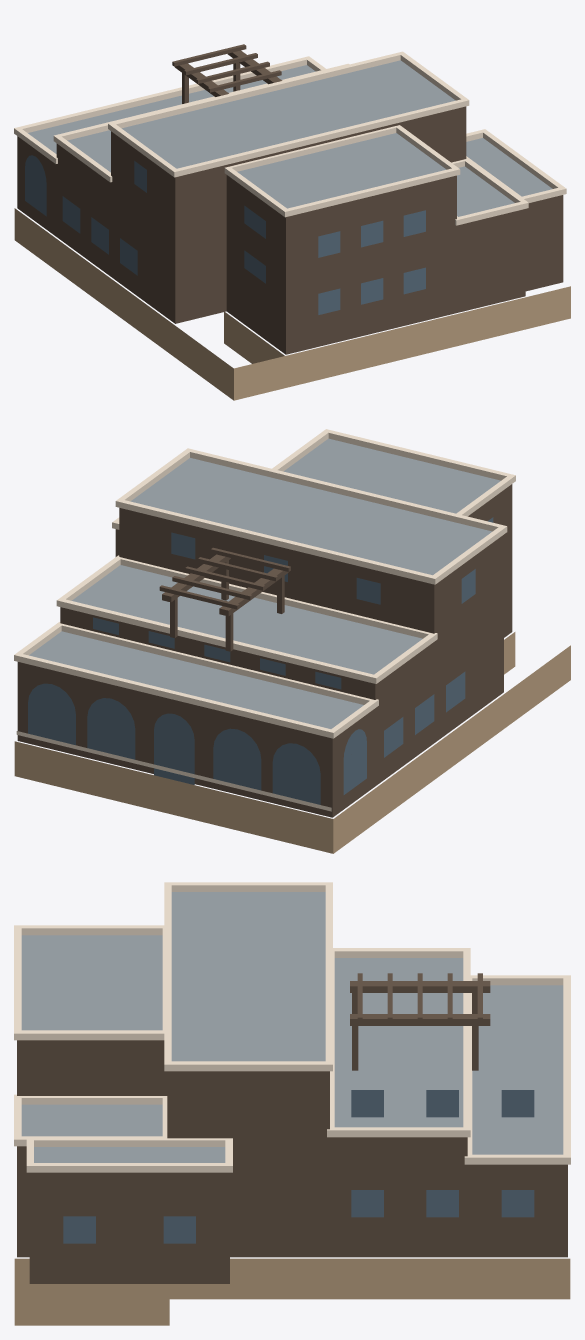
The model's file is grand-canyon-verkamps.glb.
3 renders of one model, top to bottom at view 1: azimuth 30°, elevation 25°; view 2: azimuth 150°, elevation 25°; view 3: azimuth 270°, elevation 25°, orthographic. The views are drawn at different scales.
Visible parts, largest first — view 1: Verkamp's; view 2: Verkamp's; view 3: Verkamp's.
Part boxes in pixels (box(x1,y1,x2,y2)): Verkamp's: box(14, 44, 570, 400); Verkamp's: box(14, 429, 570, 853); Verkamp's: box(14, 882, 570, 1325).
Bounding box in the file's own units: 19.74 × 10.35 × 22.24.
